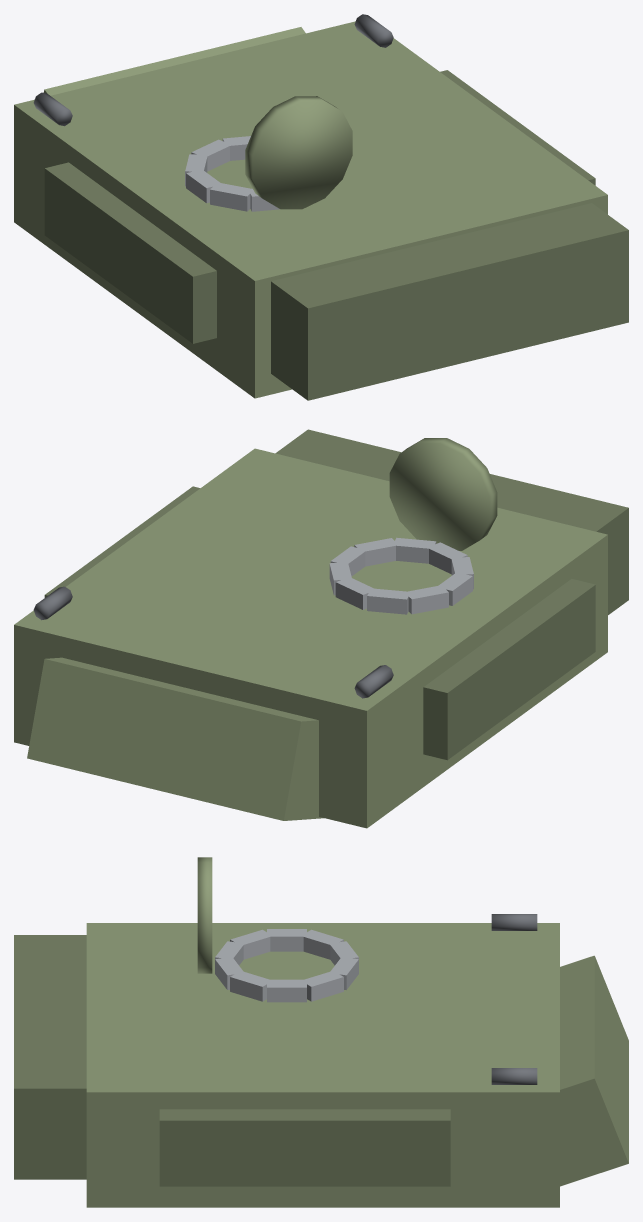
The model's file is tank_turret.gltf.
3 renders of one model, top to bottom at view 1: azimuth 30°, elevation 25°; view 2: azimuth 150°, elevation 25°; view 3: azimuth 270°, elevation 25°, orthographic.
Visible parts, largest first — view 1: tank_turret; view 2: tank_turret; view 3: tank_turret.
Part boxes in pixels (x1,y1,x2,y2): tank_turret: (14, 14, 628, 400); tank_turret: (14, 429, 628, 828); tank_turret: (14, 857, 628, 1207).
Bounding box in the file's own units: 2.51 × 1.41 × 3.38.
